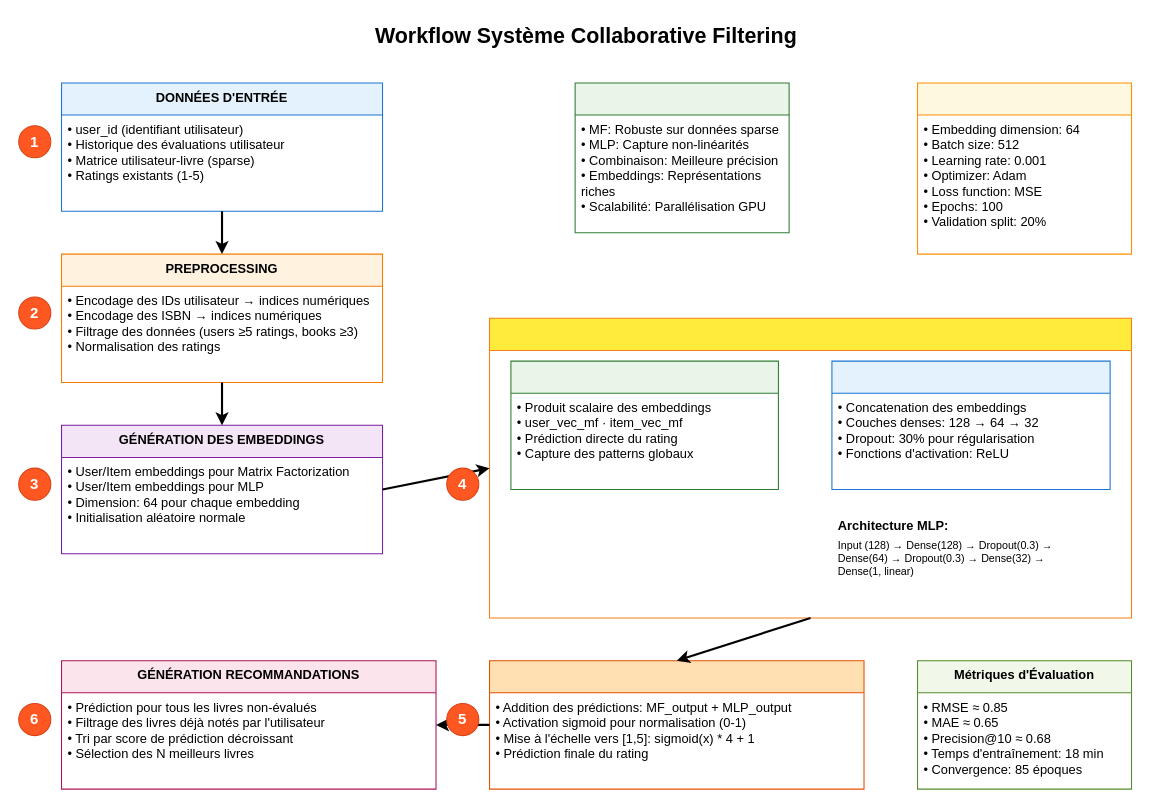
This 1150x810 diagram has some shape labels left out. The shapes that lost their labels are listed below. From the top down, each one's box as (x1, y1, x2, y2) in pixels, then its label:
(574, 82, 789, 233): Avantages de l'Approche
(916, 82, 1132, 254): Paramètres du Modèle
(510, 360, 778, 490): BRANCHE MATRIX FACTORIZATION
(831, 360, 1110, 490): BRANCHE MLP
(488, 317, 1132, 618): TRAITEMENT PARALLÈLE
(488, 660, 864, 789): COMBINAISON DES SORTIES
